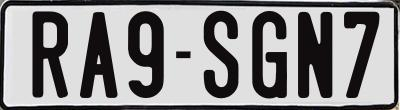7: (344, 10, 379, 97)
9: (127, 9, 165, 102)
A: (79, 12, 119, 101)
G: (249, 8, 290, 98)
N: (296, 9, 336, 100)
R: (30, 11, 68, 102)
S: (203, 9, 239, 100)
